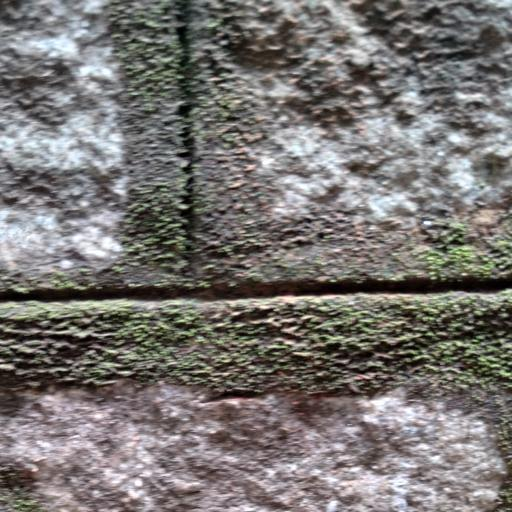algae: (0, 163, 512, 443)
